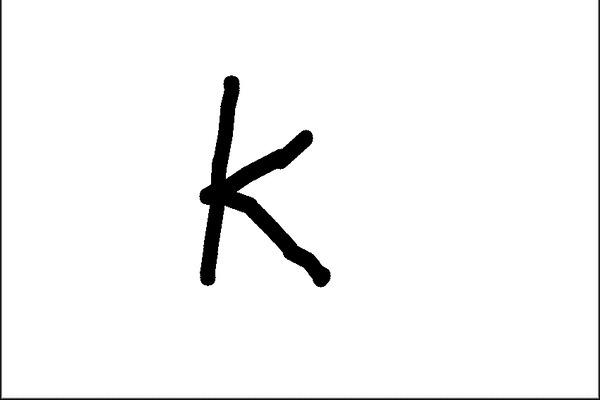K: (192, 69, 335, 293)
